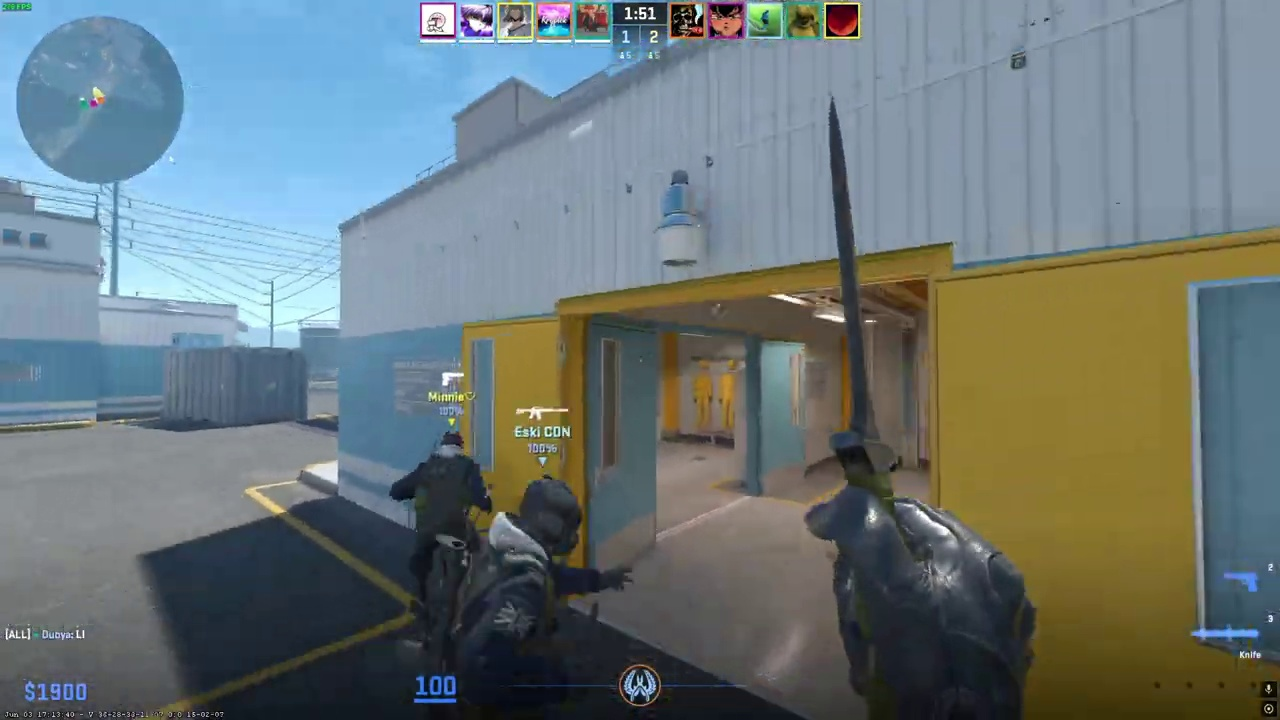CT: (457, 480, 584, 713), (398, 431, 492, 610)
